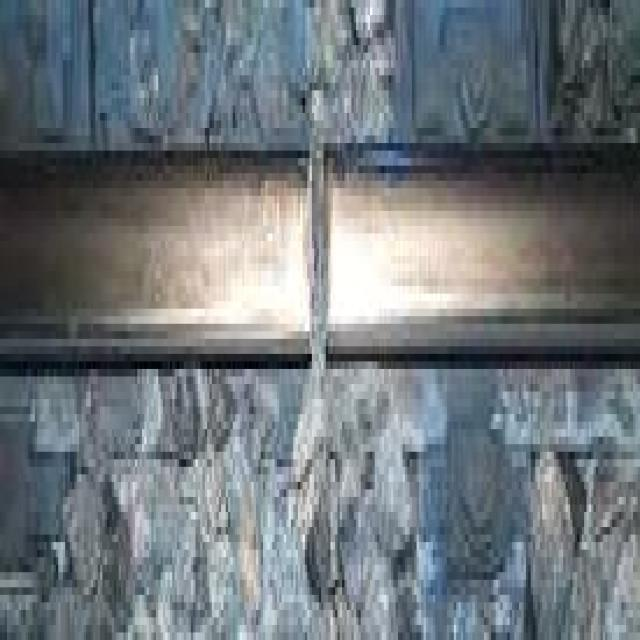Good Fasteners: (444, 410, 517, 576)
